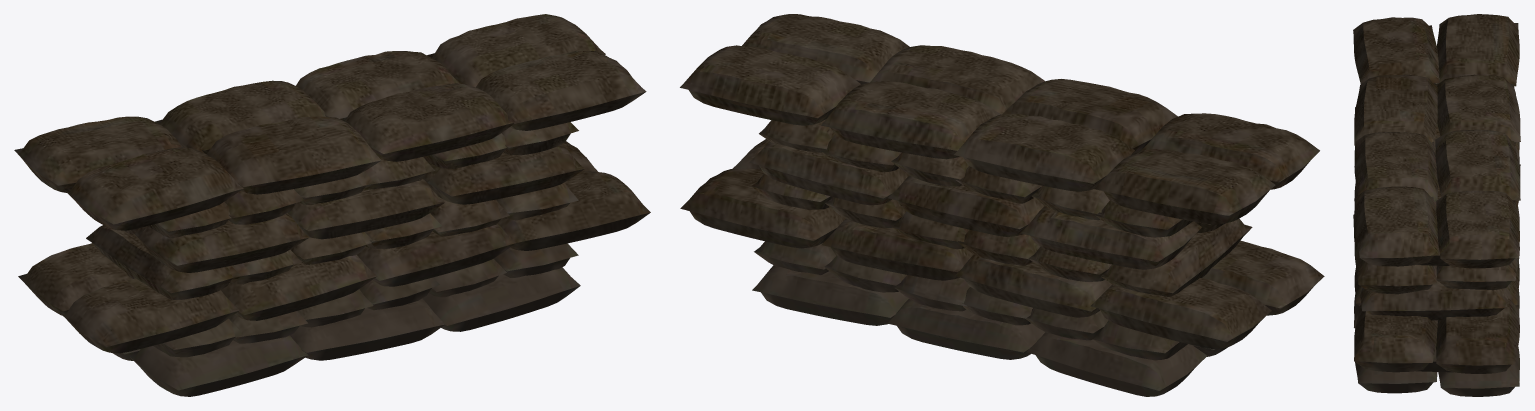
Rendered from sandbag_wall.glb.
3 views of the same model, side by side, from view 1: azimuth 30°, elevation 25°; view 2: azimuth 150°, elevation 25°; view 3: azimuth 270°, elevation 25° (orthographic). The views are drawn at different scales.
Parts seen in each view (by area): view 1: sandbag_wall_Burlap; view 2: sandbag_wall_Burlap; view 3: sandbag_wall_Burlap.
Boxes of the visible parts, <box> form: sandbag_wall_Burlap: <box>14,14,650,396</box>; sandbag_wall_Burlap: <box>680,14,1324,396</box>; sandbag_wall_Burlap: <box>1353,14,1520,396</box>.
Bounding box in the file's own units: 2.73 × 1.05 × 0.825.
Materials: 1 (1 with a texture image).
